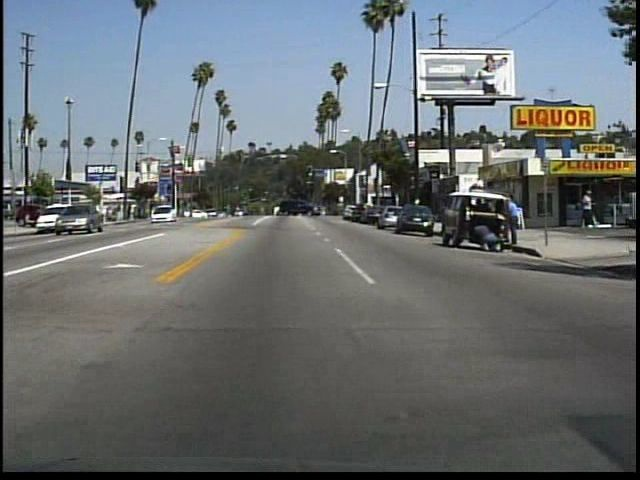person: (472, 221, 501, 256), (504, 194, 523, 246), (580, 187, 596, 233)
